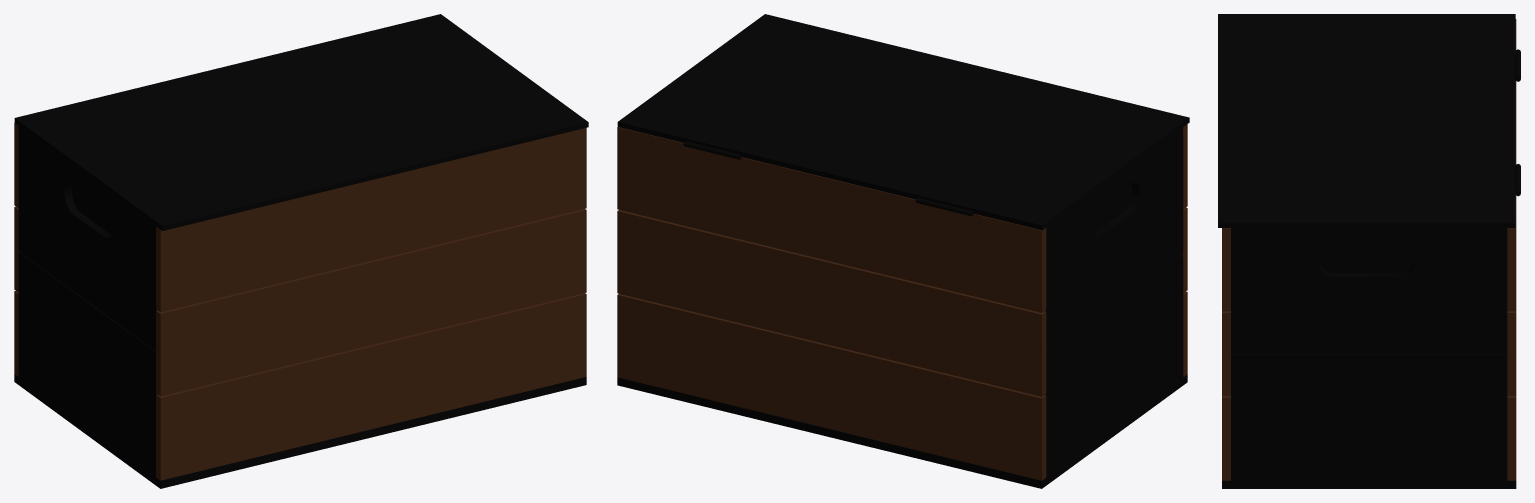
The picture shows the model from 3 angles, left to right: view 1: azimuth 30°, elevation 25°; view 2: azimuth 150°, elevation 25°; view 3: azimuth 270°, elevation 25°; orthographic projection.
Visible parts, largest first — view 1: plamk.004; view 2: plamk.004; view 3: plamk.004.
Boxes of the visible parts, x1,y1,x2,y2 form: plamk.004: (14, 14, 588, 488); plamk.004: (617, 14, 1189, 488); plamk.004: (1218, 14, 1520, 488).
Size of the model in its own units: 90 by 53.34 by 55.09.
